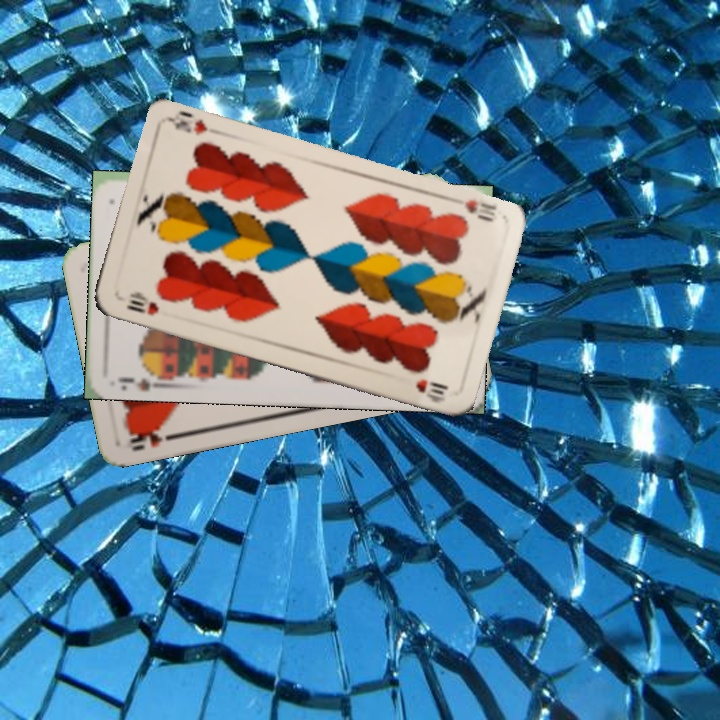H10: (122, 288, 162, 318), (460, 195, 500, 225)
HO: (125, 424, 182, 454)
S9: (114, 365, 169, 393)
